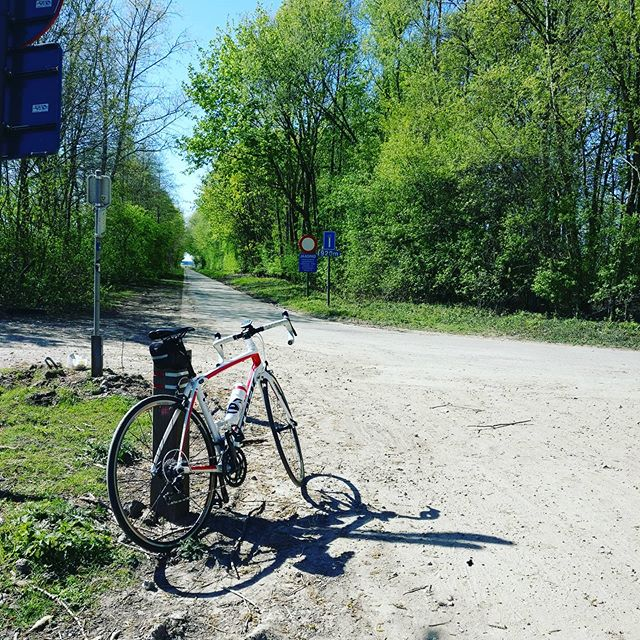bicicle: (108, 313, 322, 565)
sign: (291, 226, 342, 283)
street: (184, 268, 640, 640)
vegetation: (218, 1, 640, 294)
vr: (1, 1, 166, 313)
